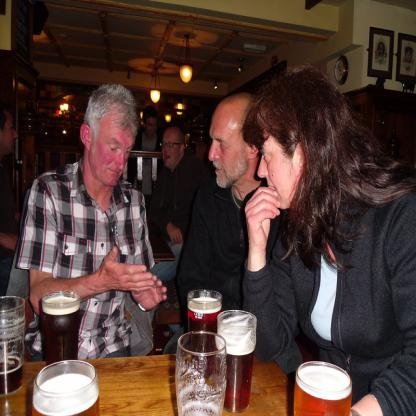drinking: (216, 309, 257, 414), (41, 292, 81, 392), (31, 360, 100, 415), (292, 361, 353, 415), (187, 290, 222, 380), (0, 294, 26, 394)
